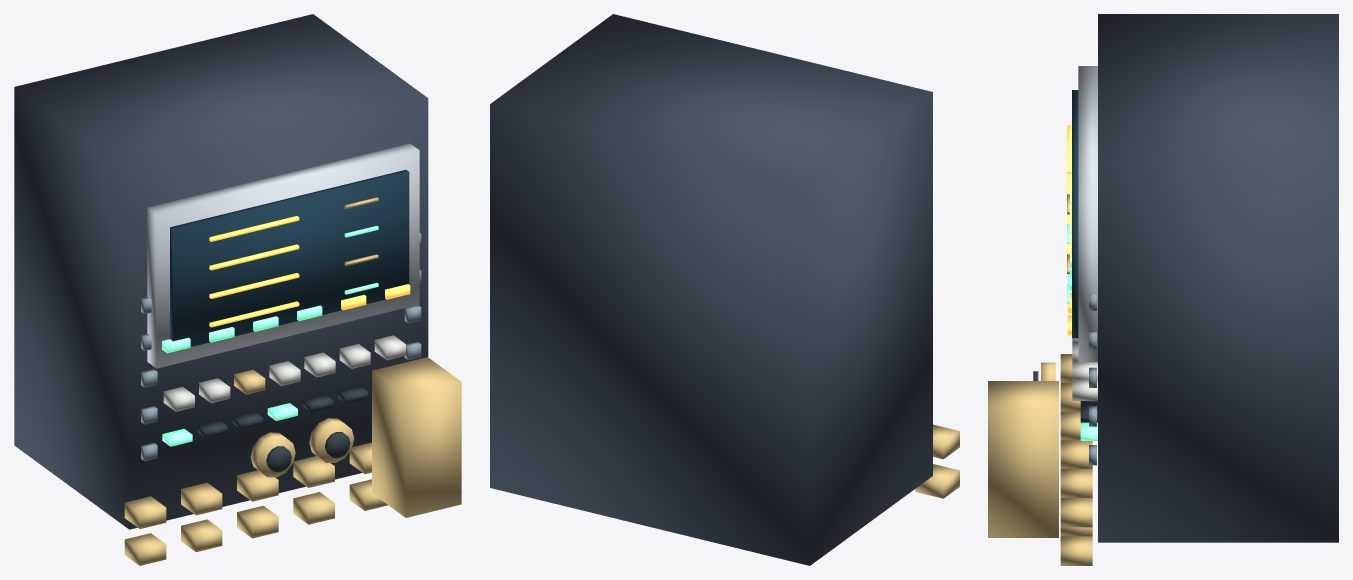
Rendered from 49_L92_BitJamRecoveryActuator.fbx.
3 views of the same model, side by side, from view 1: azimuth 30°, elevation 25°; view 2: azimuth 150°, elevation 25°; view 3: azimuth 270°, elevation 25° (orthographic). The views are drawn at different scales.
Parts seen in each view (by area): view 1: L92_BitJamRecoveryActuator, L92_BitJamRecoveryActuator_Part_0011, L92_BitJamRecoveryActuator_Part_0009, L92_BitJamRecoveryActuator_Part_0012, L92_BitJamRecoveryActuator_Part_0014, L92_BitJamRecoveryActuator_Part_0010; view 2: L92_BitJamRecoveryActuator; view 3: L92_BitJamRecoveryActuator, L92_BitJamRecoveryActuator_Part_0011.
Boxes of the visible parts, <box> form: L92_BitJamRecoveryActuator: <box>14,14,428,565</box>; L92_BitJamRecoveryActuator_Part_0011: <box>372,357,461,517</box>; L92_BitJamRecoveryActuator_Part_0009: <box>162,305,322,353</box>; L92_BitJamRecoveryActuator_Part_0012: <box>250,432,295,477</box>; L92_BitJamRecoveryActuator_Part_0014: <box>309,418,354,462</box>; L92_BitJamRecoveryActuator_Part_0010: <box>341,284,410,310</box>; L92_BitJamRecoveryActuator: <box>490,14,959,565</box>; L92_BitJamRecoveryActuator: <box>1060,14,1338,565</box>; L92_BitJamRecoveryActuator_Part_0011: <box>988,381,1058,537</box>.
Size of the model in its own units: 1.05 by 1.24 by 0.99.
